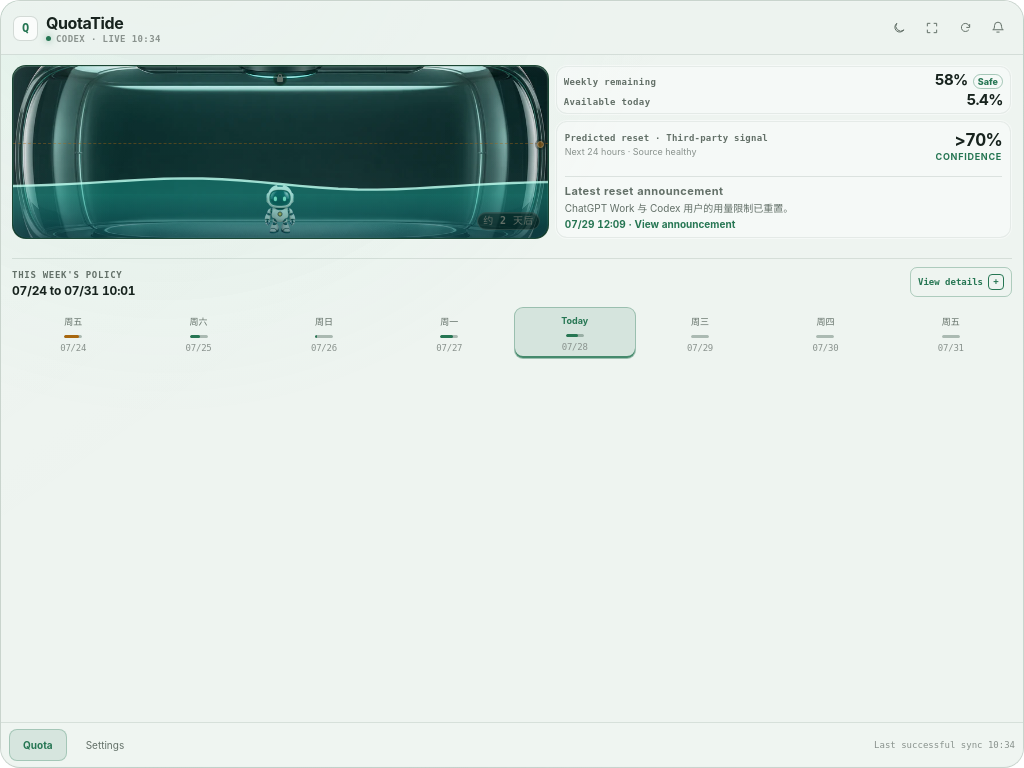
Scenario: tray-window navigation › renders the complete core workflow in English
Expected: the list named "This week's policy" is shown, left=12, top=303, right=1012, bottom=365
Expected: the text "Weekly remaining" is shown, left=564, top=77, right=656, bottom=87
What coordinates should you click on to do the following:
click the button "Settings"
I would click on:
 (105, 745)
Its box is left=72, top=729, right=138, bottom=761.
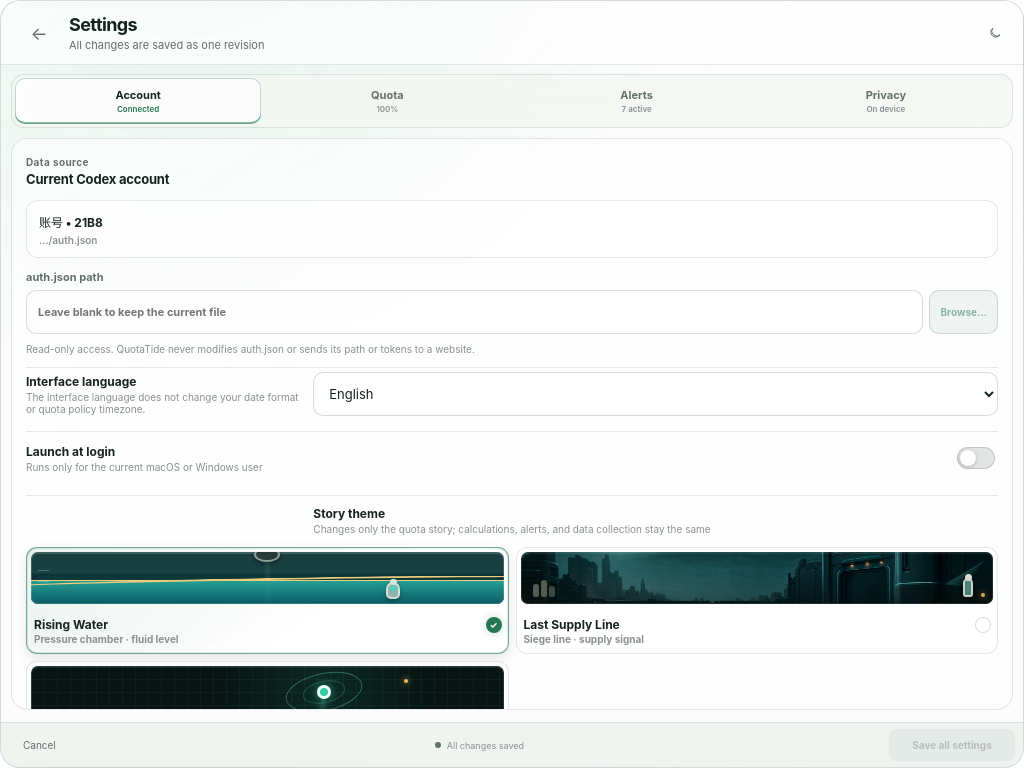
Expected: the dropdown labelled "Interface language" shows "English", left=313, top=372, right=998, bottom=416
What coordinates should you click on to do the following:
click the tab "Privacy On device"
I would click on:
 (886, 101)
Its box is left=763, top=78, right=1009, bottom=124.
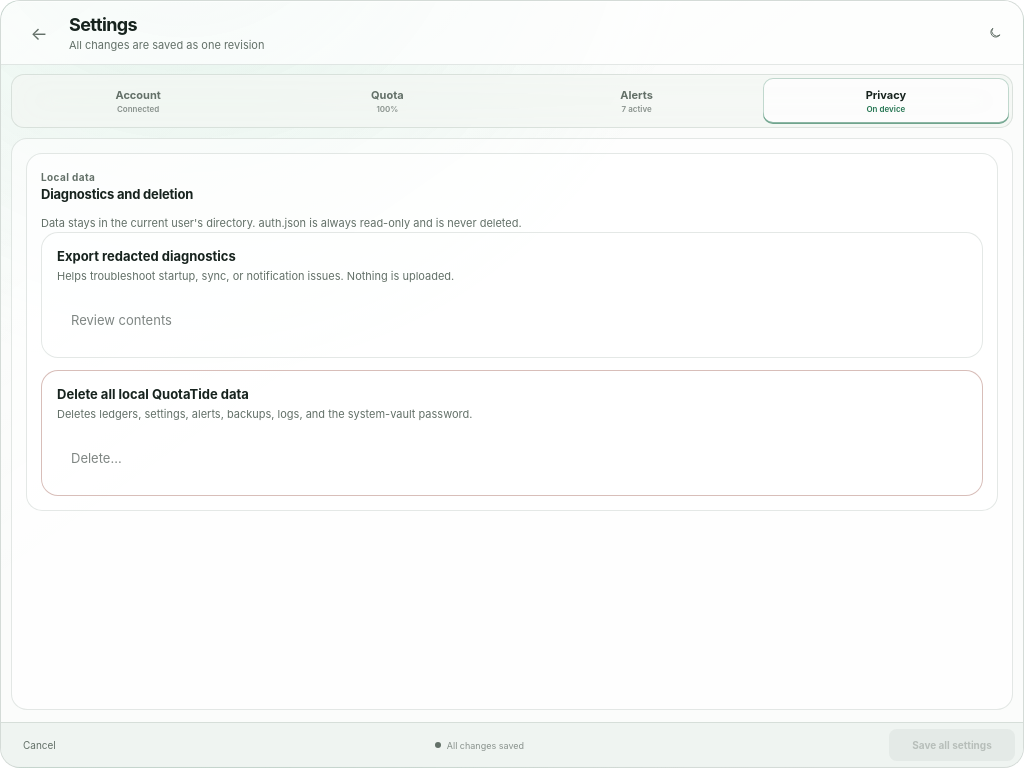
Expected: the heading "Diagnostics and deletion" is shown, left=41, top=186, right=193, bottom=202
